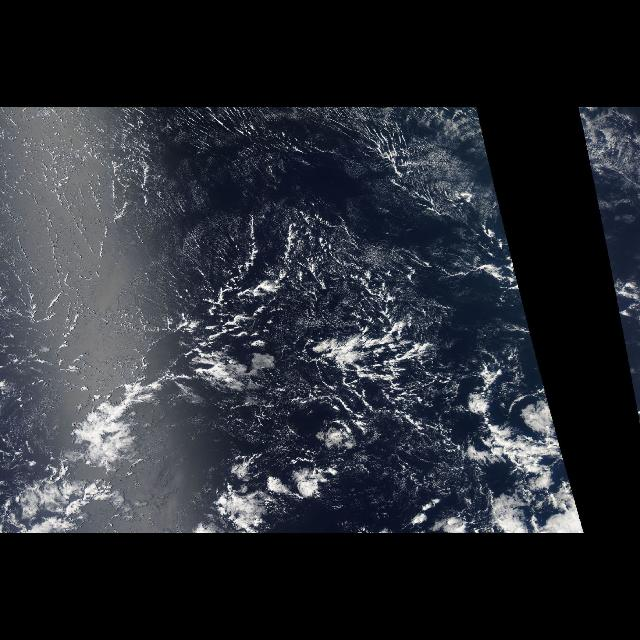Gravel: (169, 242, 485, 452)
Sugar: (1, 108, 524, 312), (578, 107, 640, 295)
